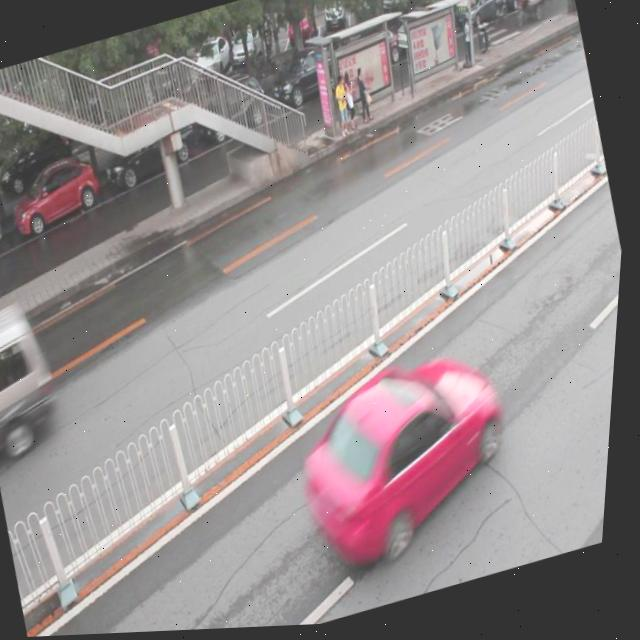car: (284, 346, 533, 575), (6, 152, 111, 243), (98, 107, 206, 195), (263, 38, 354, 118), (192, 72, 277, 151), (0, 201, 13, 271)
truck: (0, 291, 76, 463)
